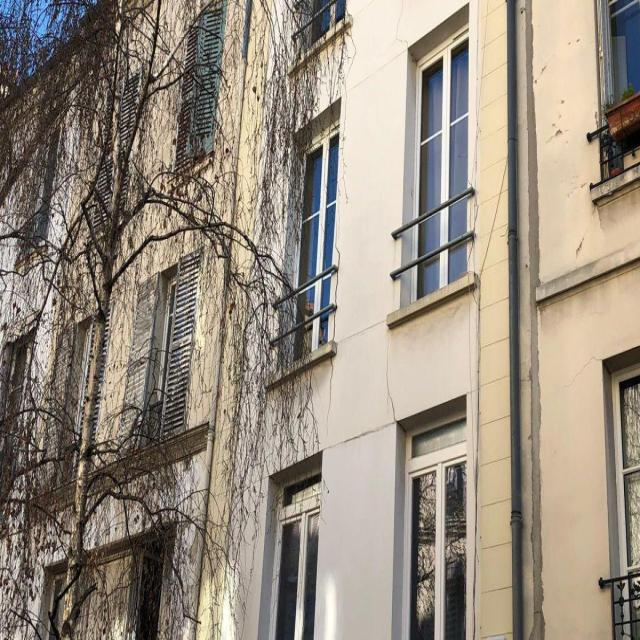crack: (324, 218, 341, 431), (384, 336, 409, 439)
